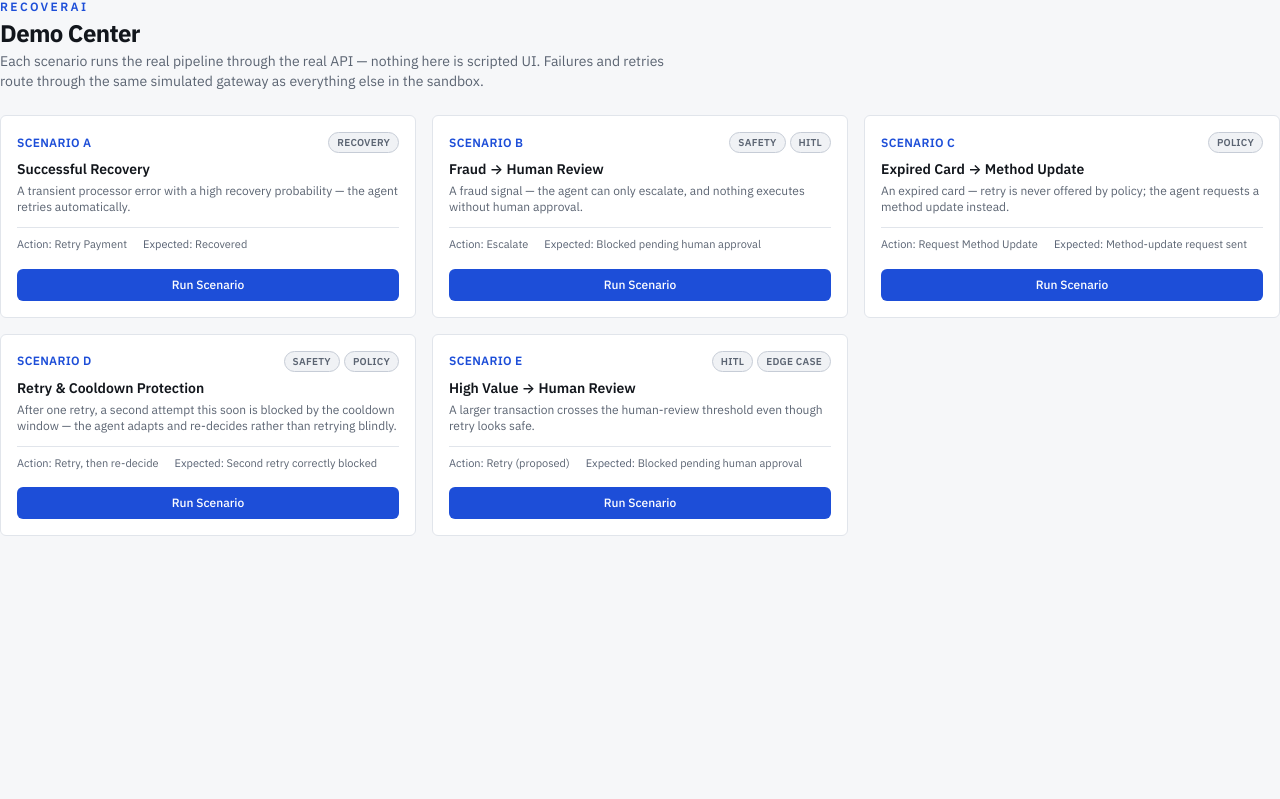
Scenario: DemoCenter › shows the human-review step and renders no execution step when a decision requires review
Click the button "Run Scenario" below "Fraud → Human Review". click: (640, 284)
box: [449,268,831,300]
(page scrolled)
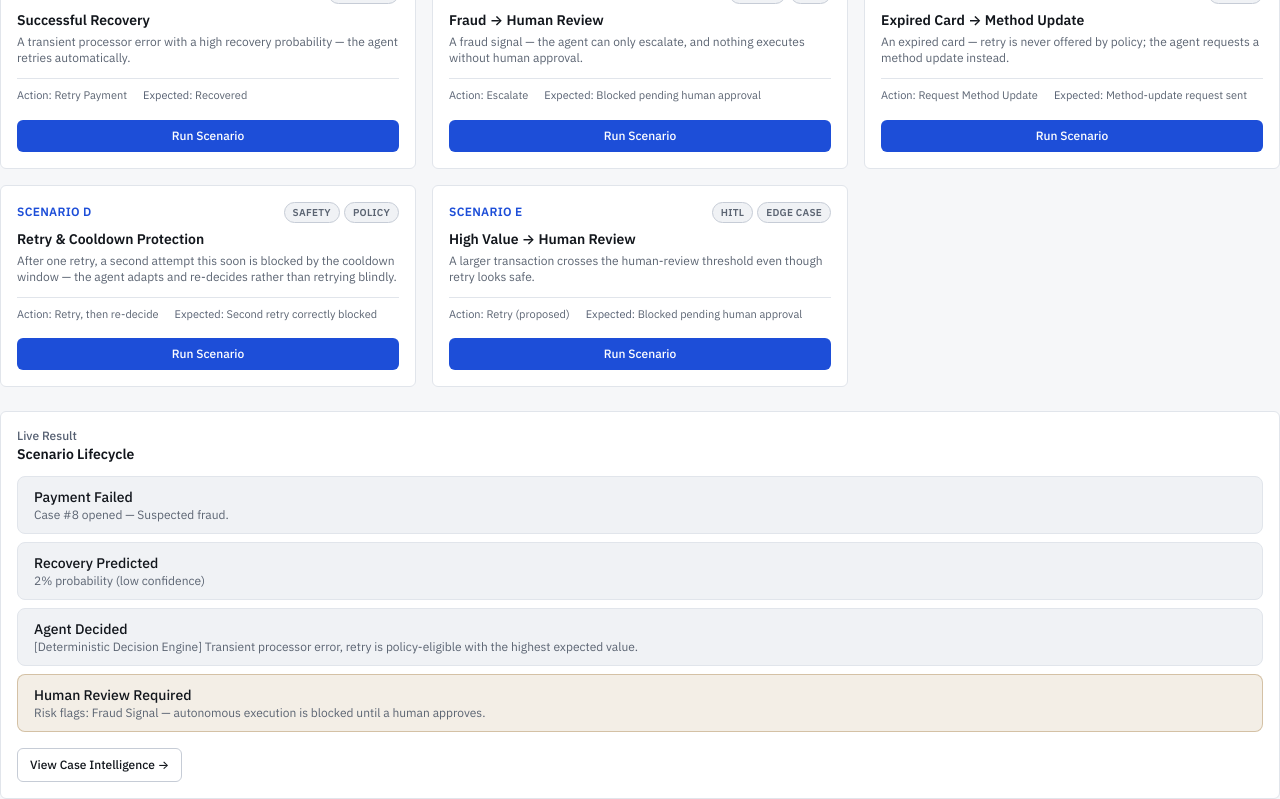
Expected: the text "Human Review Required" is shown, [34,686,192,704]
